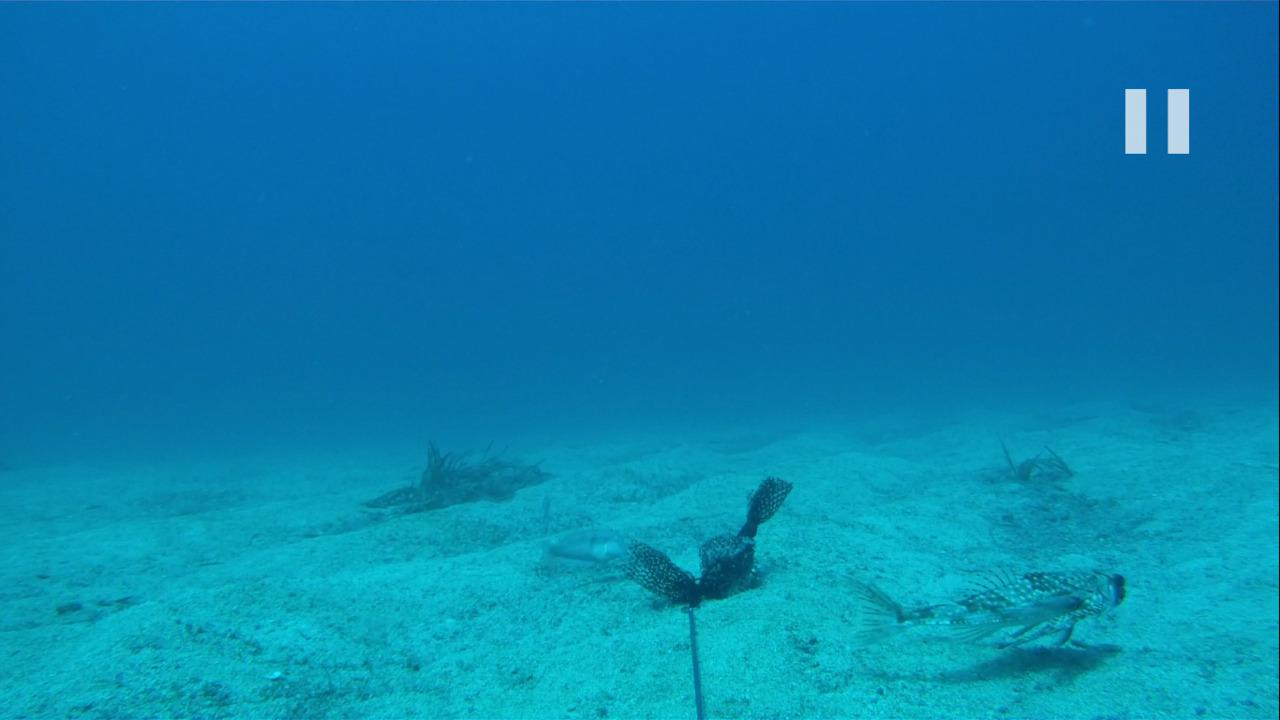dactylopterus: (847, 560, 1130, 661)
raor: (540, 526, 633, 575)
